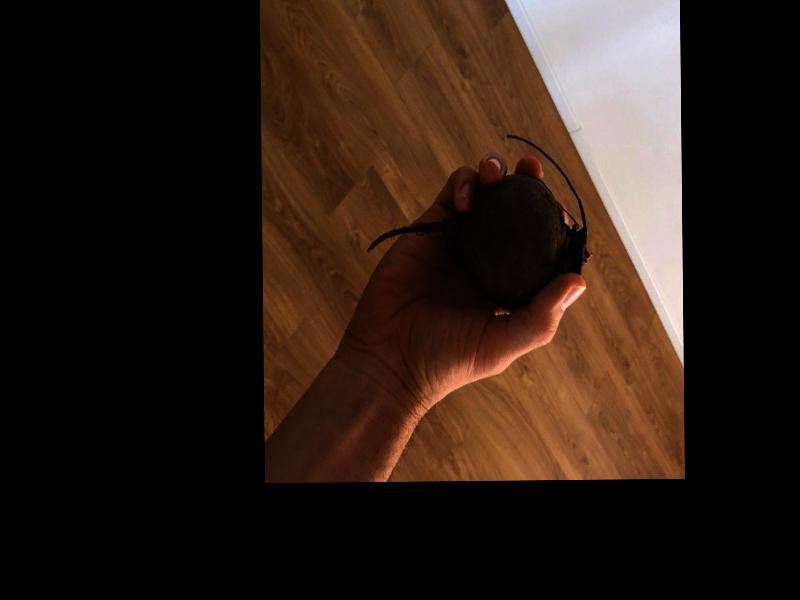Beet: (367, 132, 592, 310)
